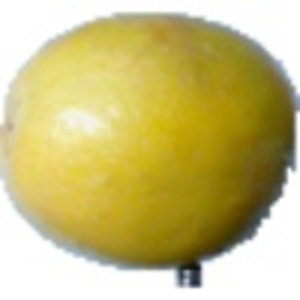maracujá: (1, 11, 300, 289)
